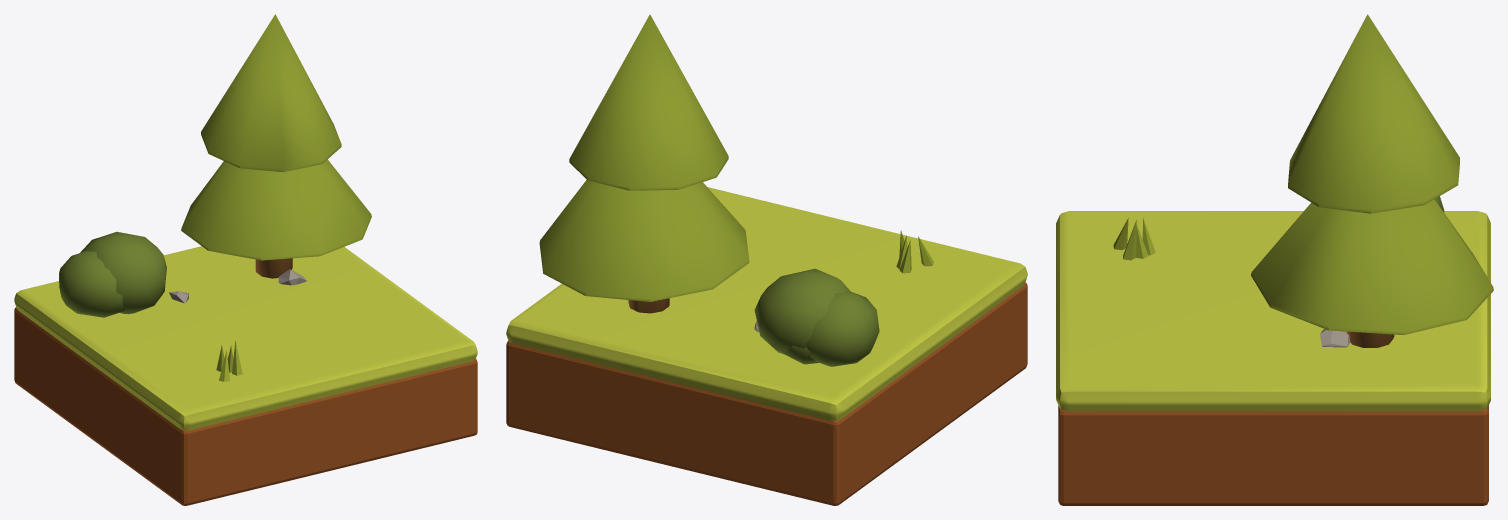
File: tile_grove_mossy.glb
3 renders of one model, left to right at view 1: azimuth 30°, elevation 25°; view 2: azimuth 150°, elevation 25°; view 3: azimuth 270°, elevation 25°, orthographic. The views are drawn at different scales.
Parts seen in each view (by area): view 1: tile_grove_mossy_cap, tile_grove_mossy_body, gm2_tier0, gm2_tier1, tile_grove_mossy_b_lobe2, tile_grove_mossy_b_lobe1, gm2_trunk; view 2: tile_grove_mossy_cap, tile_grove_mossy_body, gm2_tier0, gm2_tier1, tile_grove_mossy_b_lobe2, tile_grove_mossy_b_lobe1; view 3: tile_grove_mossy_cap, tile_grove_mossy_body, gm2_tier0, gm2_tier1, gm2_trunk, tile_grove_mossy_p_peb1.
Part boxes in pixels (bbox=[...]): tile_grove_mossy_cap: bbox=[14, 246, 477, 430]; tile_grove_mossy_body: bbox=[14, 307, 477, 505]; gm2_tier0: bbox=[181, 159, 371, 260]; gm2_tier1: bbox=[201, 14, 341, 172]; tile_grove_mossy_b_lobe2: bbox=[80, 231, 166, 314]; tile_grove_mossy_b_lobe1: bbox=[59, 251, 125, 317]; gm2_trunk: bbox=[255, 258, 292, 278]; tile_grove_mossy_cap: bbox=[506, 187, 1027, 420]; tile_grove_mossy_body: bbox=[506, 282, 1027, 505]; gm2_tier0: bbox=[539, 180, 749, 301]; gm2_tier1: bbox=[569, 14, 728, 190]; tile_grove_mossy_b_lobe2: bbox=[754, 268, 850, 354]; tile_grove_mossy_b_lobe1: bbox=[806, 291, 879, 366]; tile_grove_mossy_cap: bbox=[1056, 211, 1490, 411]; tile_grove_mossy_body: bbox=[1058, 405, 1488, 505]; gm2_tier0: bbox=[1251, 199, 1493, 334]; gm2_tier1: bbox=[1288, 14, 1459, 213]; gm2_trunk: bbox=[1346, 331, 1394, 347]; tile_grove_mossy_p_peb1: bbox=[1320, 329, 1350, 347].
Bounding box in the file's own units: 2.03 × 2.28 × 2.03.
